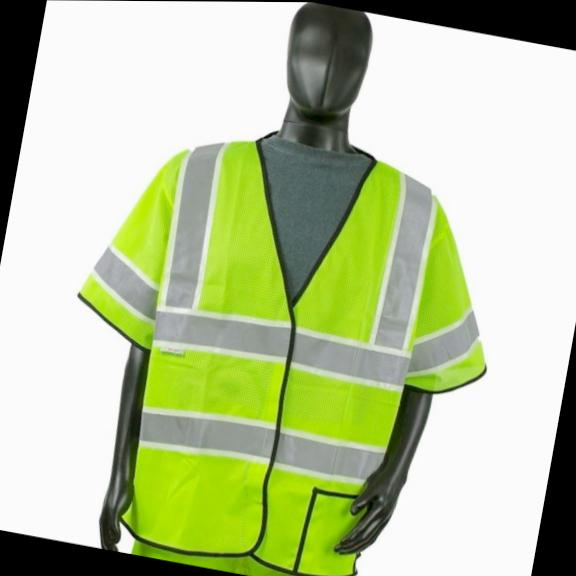safety_vest: (33, 104, 522, 576)
